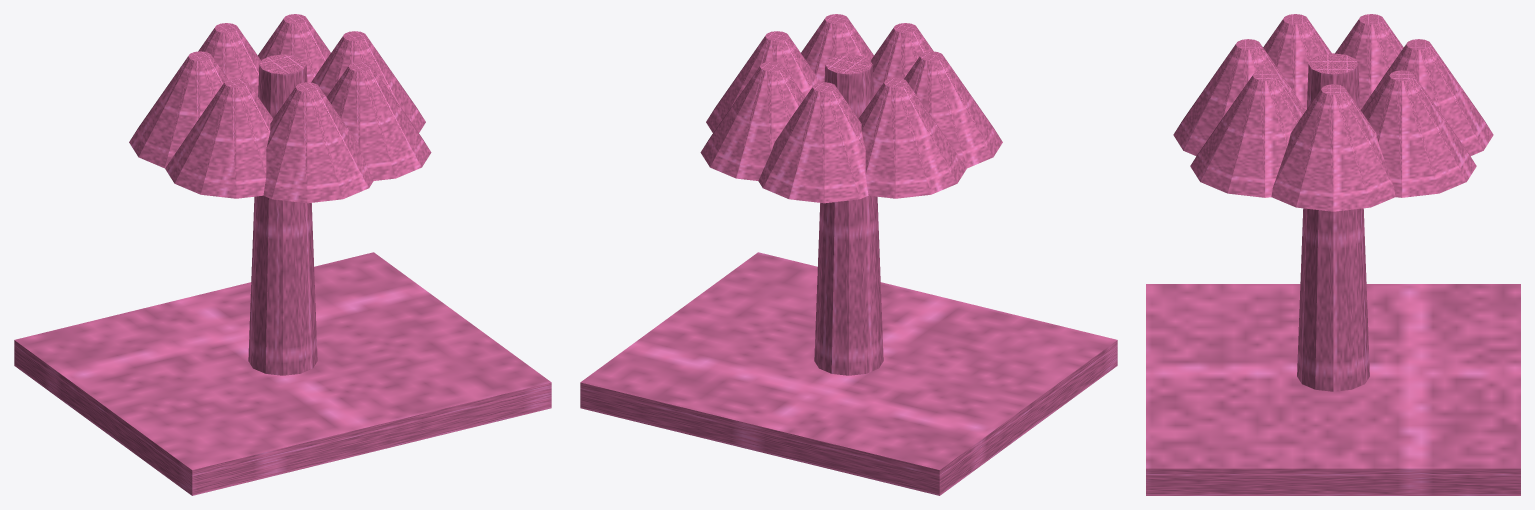
File: dream_orchard_00.glb
3 views of the same model, side by side, from view 1: azimuth 30°, elevation 25°; view 2: azimuth 150°, elevation 25°; view 3: azimuth 270°, elevation 25° (orthographic). The views are drawn at different scales.
Parts seen in each view (by area): view 1: Foundation, DreamTrunk, DreamPetal.005, DreamPetal.004, DreamPetal.006, DreamPetal.003, DreamPetal, DreamPetal.001, DreamPetal.002; view 2: Foundation, DreamTrunk, DreamPetal.002, DreamPetal.003, DreamPetal.001, DreamPetal.004, DreamPetal, DreamPetal.006, DreamPetal.005; view 3: Foundation, DreamTrunk, DreamPetal, DreamPetal.001, DreamPetal.006, DreamPetal.002, DreamPetal.005, DreamPetal.003, DreamPetal.004.
Boxes of the visible parts, left/top/right/bottom form: Foundation: left=14, top=252, right=551, bottom=495; DreamTrunk: left=248, top=54, right=317, bottom=375; DreamPetal.005: left=263, top=82, right=373, bottom=203; DreamPetal.004: left=165, top=77, right=273, bottom=198; DreamPetal.006: left=327, top=61, right=431, bottom=180; DreamPetal.003: left=129, top=51, right=227, bottom=168; DreamPetal: left=311, top=31, right=425, bottom=132; DreamPetal.001: left=258, top=14, right=330, bottom=82; DreamPetal.002: left=198, top=23, right=260, bottom=95; Foundation: left=580, top=252, right=1117, bottom=495; DreamTrunk: left=814, top=54, right=883, bottom=375; DreamPetal.002: left=758, top=82, right=868, bottom=203; DreamPetal.003: left=858, top=77, right=966, bottom=198; DreamPetal.001: left=700, top=61, right=804, bottom=180; DreamPetal.004: left=904, top=51, right=1002, bottom=168; DreamPetal: left=706, top=31, right=820, bottom=132; DreamPetal.006: left=801, top=14, right=873, bottom=82; DreamPetal.005: left=871, top=23, right=933, bottom=95; Foundation: left=1146, top=284, right=1520, bottom=495; DreamTrunk: left=1297, top=53, right=1369, bottom=391; DreamPetal: left=1271, top=84, right=1395, bottom=211; DreamPetal.001: left=1363, top=70, right=1476, bottom=197; DreamPetal.006: left=1190, top=70, right=1303, bottom=197; DreamPetal.002: left=1360, top=39, right=1493, bottom=156; DreamPetal.005: left=1173, top=39, right=1306, bottom=156; DreamPetal.003: left=1335, top=14, right=1403, bottom=109; DreamPetal.004: left=1263, top=14, right=1331, bottom=109.
Size of the model in its own units: 3.5 by 3.1 by 3.
1 material, 1 textured.
